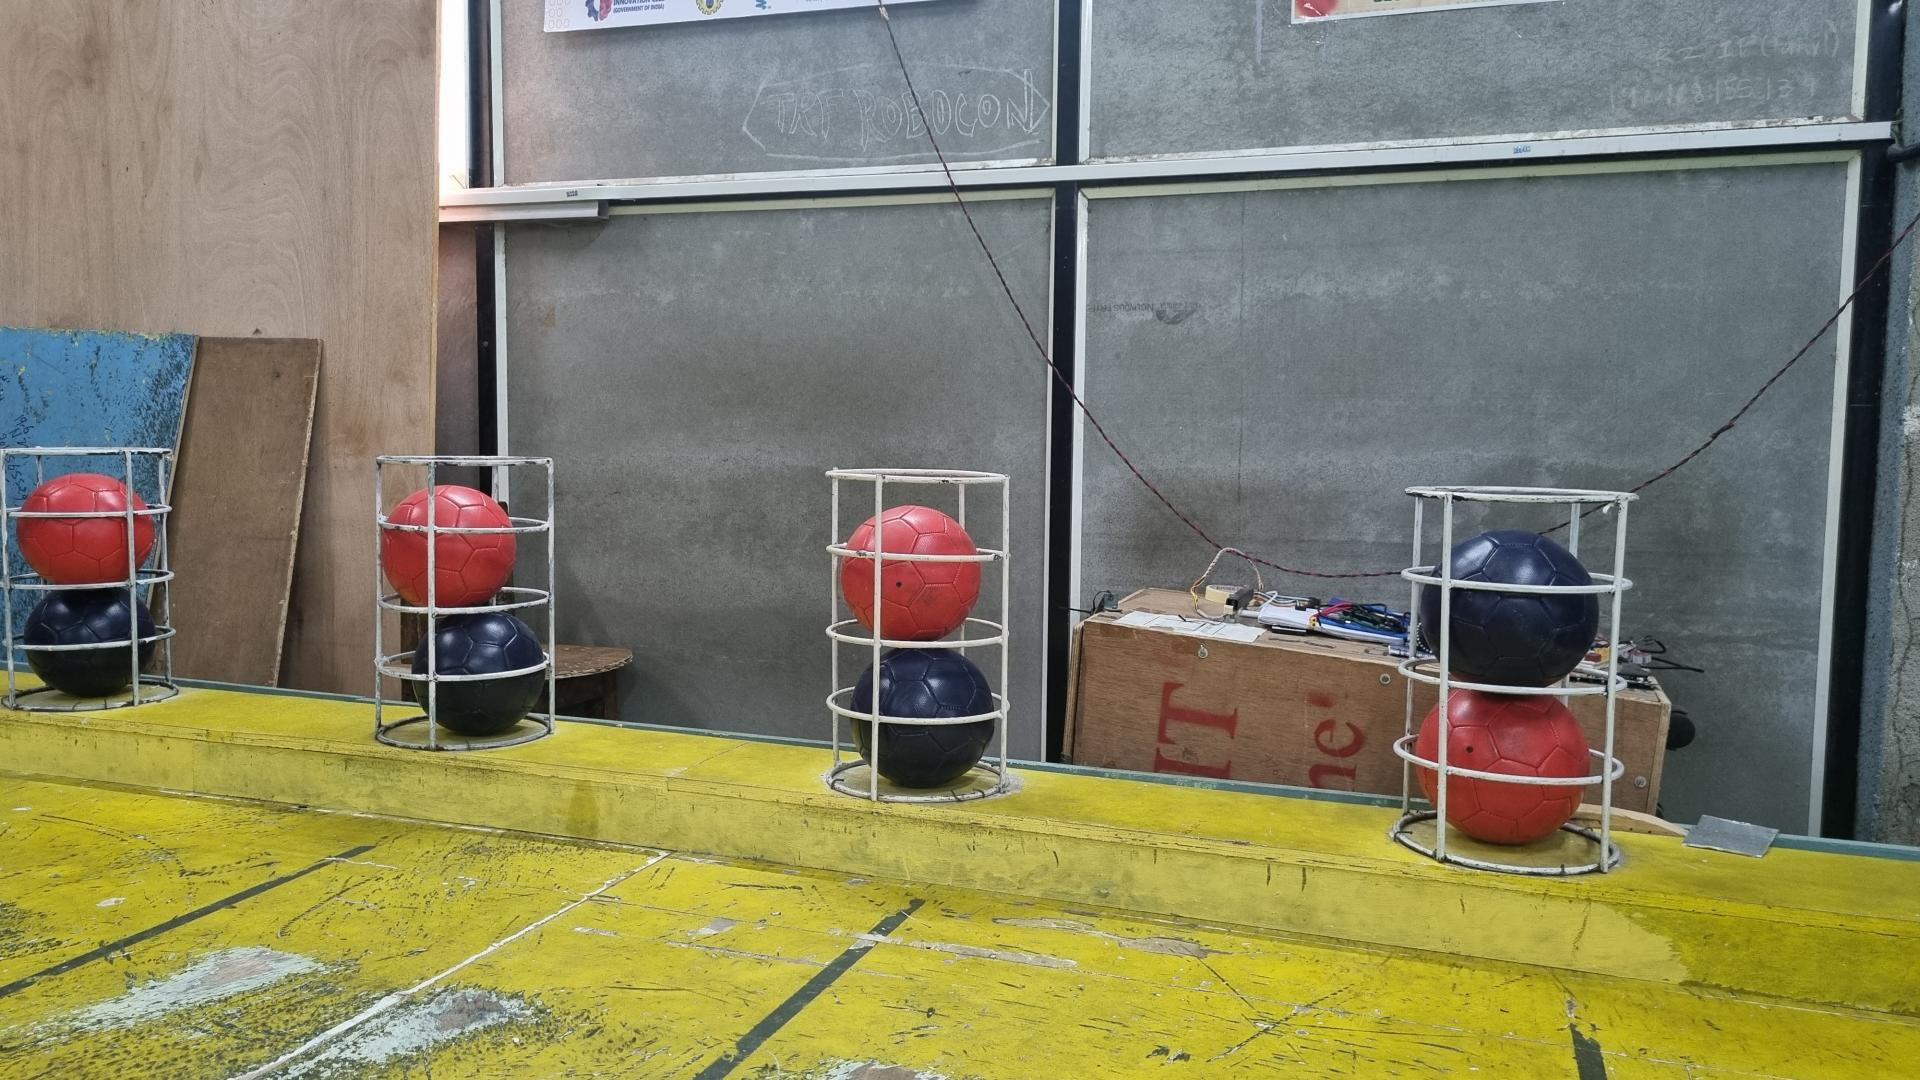dhoka: (1418, 528, 1601, 686), (851, 648, 998, 791), (412, 614, 548, 738), (22, 588, 158, 697)
laale: (1414, 689, 1594, 847), (840, 506, 982, 641), (382, 483, 518, 607), (15, 472, 158, 584)
